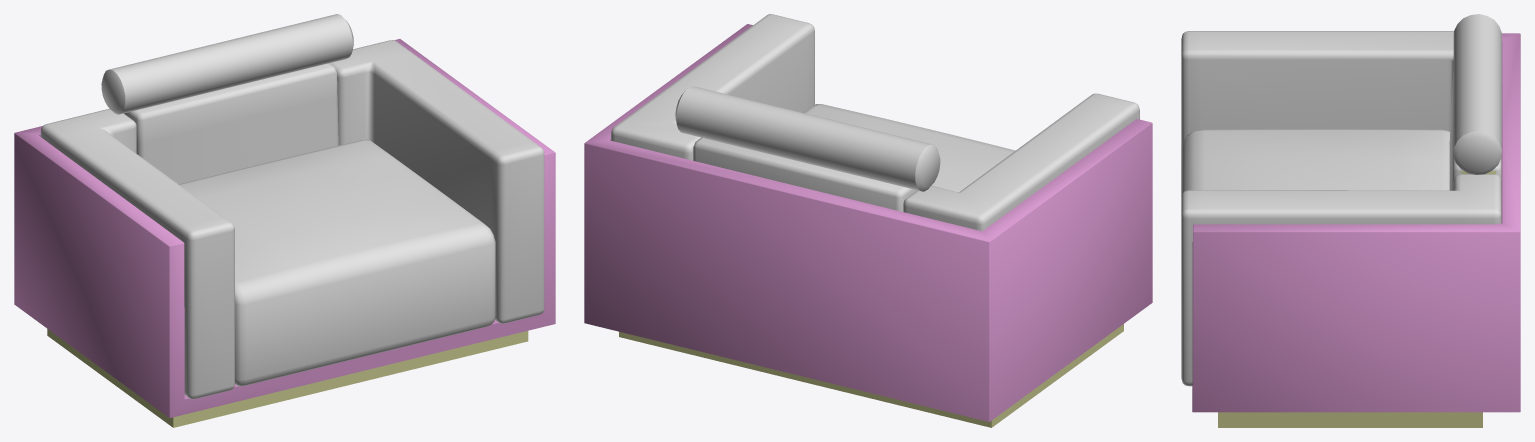
The model's file is MZCSF04.FBX.
3 renders of one model, left to right at view 1: azimuth 30°, elevation 25°; view 2: azimuth 150°, elevation 25°; view 3: azimuth 270°, elevation 25°, orthographic. The views are drawn at different scales.
Visible parts, largest first — view 1: MZCSF04; view 2: MZCSF04; view 3: MZCSF04.
Boxes of the visible parts, left/top/right/bottom form: MZCSF04: left=14, top=14, right=555, bottom=427; MZCSF04: left=584, top=14, right=1152, bottom=427; MZCSF04: left=1181, top=14, right=1520, bottom=427.
Size of the model in its own units: 124 by 89.48 by 76.99.
